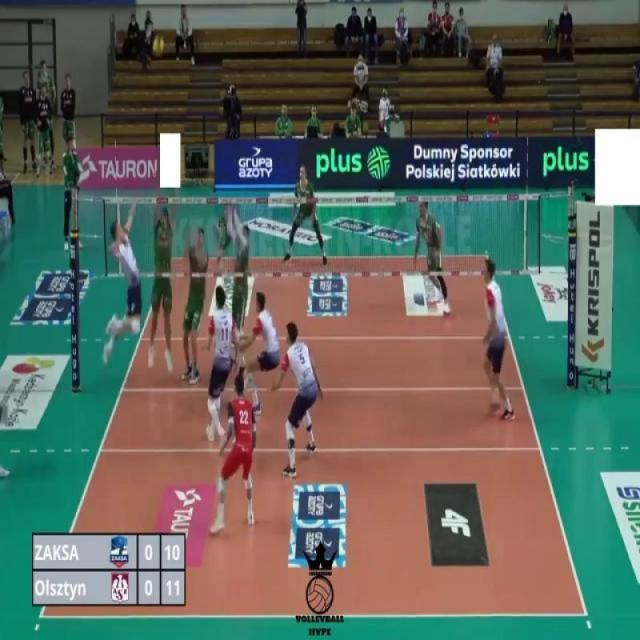volleyball: (152, 33, 165, 58)
